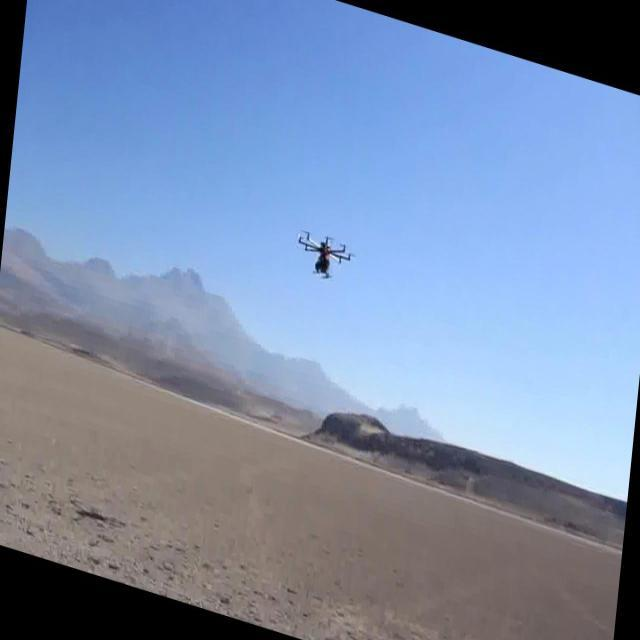drone: (289, 220, 355, 290)
